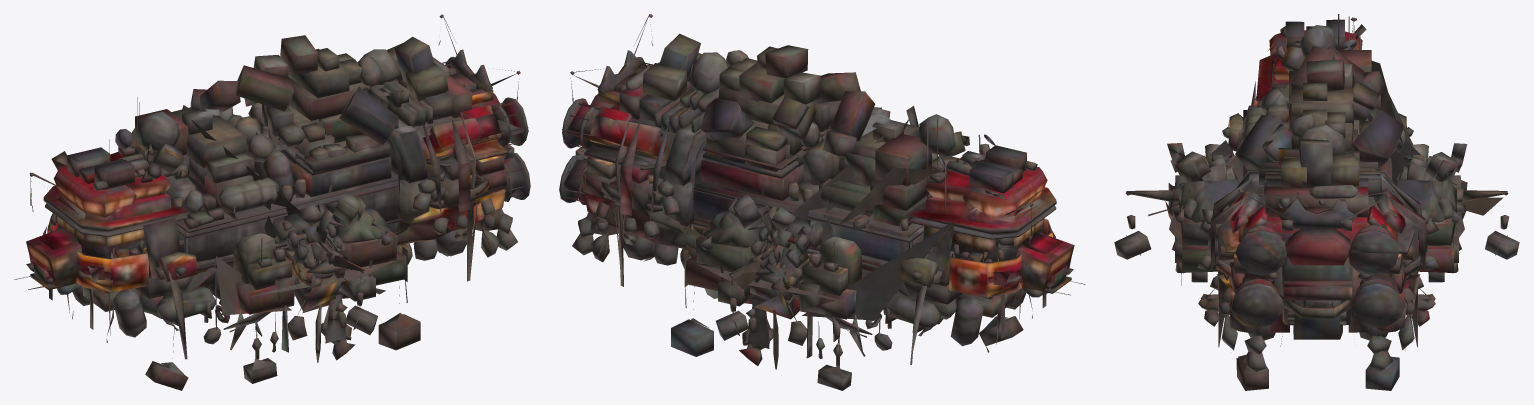
Rendered from rig_load_4.glb.
3 renders of one model, left to right at view 1: azimuth 30°, elevation 25°; view 2: azimuth 150°, elevation 25°; view 3: azimuth 270°, elevation 25°, orthographic.
Size of the model in its own units: 0.9575 by 0.5425 by 0.6919.
Materials: 1 (1 with a texture image).
